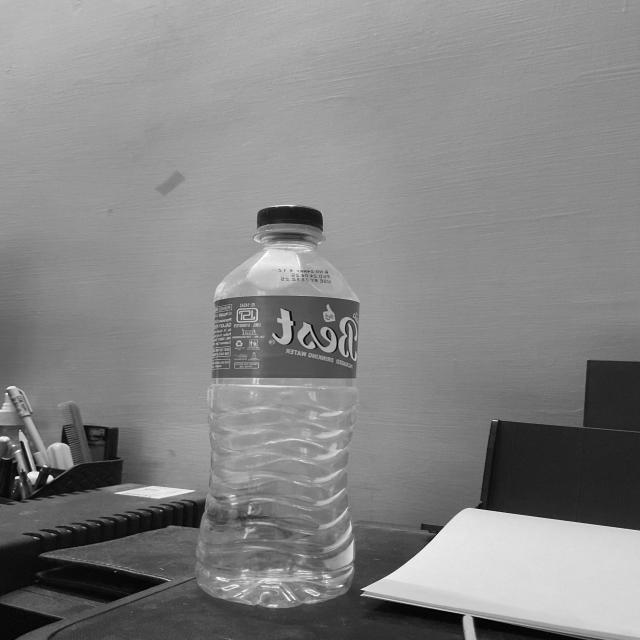Good-cap-Df0S: (250, 205, 326, 236)
